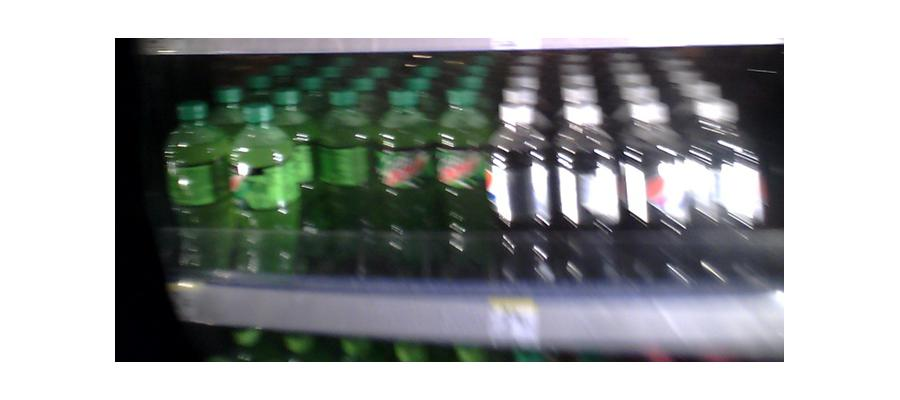bottle: (487, 97, 557, 290), (165, 104, 232, 289), (231, 104, 300, 275), (438, 94, 492, 275), (315, 111, 374, 270), (379, 109, 433, 272)
